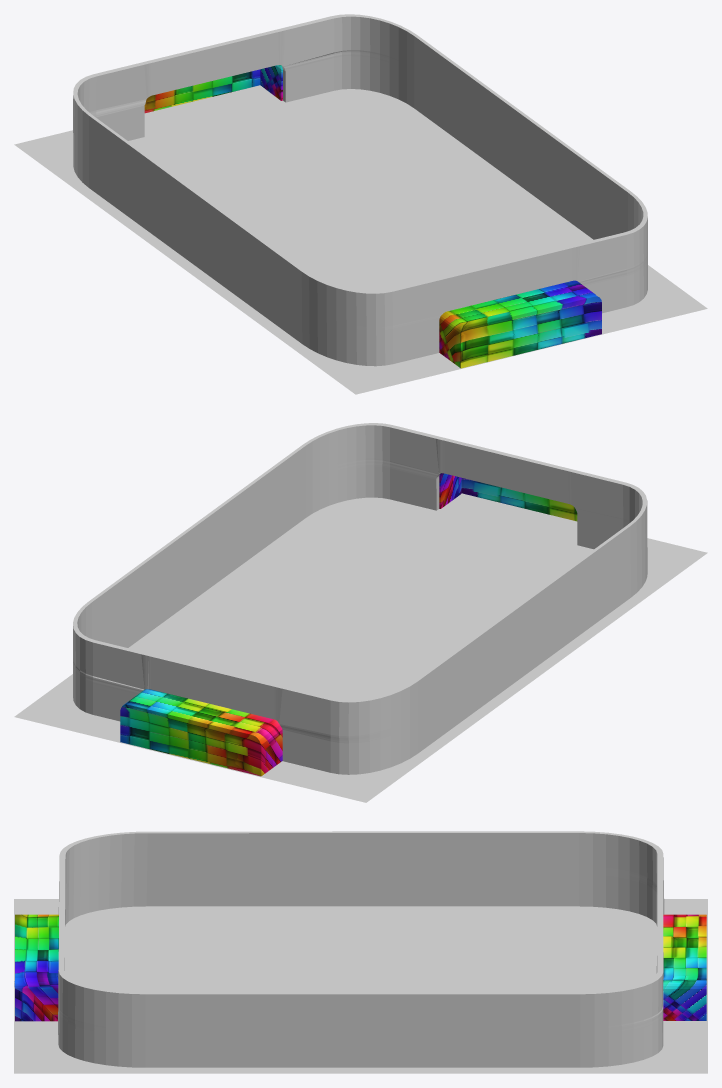
Rendered from finalGround5 (1).fbx.
3 renders of one model, top to bottom at view 1: azimuth 30°, elevation 25°; view 2: azimuth 150°, elevation 25°; view 3: azimuth 270°, elevation 25°, orthographic.
Visible parts, largest first — view 1: wall, Ground, Goal2, Goal1; view 2: wall, Ground, Goal1, Goal2; view 3: wall, Ground, Goal2, Goal1.
Part boxes in pixels (left/top/right/bottom): wall: left=73, top=14, right=647, bottom=366; Ground: left=14, top=85, right=707, bottom=394; Goal2: left=439, top=280, right=601, bottom=368; Goal1: left=144, top=65, right=282, bottom=113; wall: left=73, top=423, right=647, bottom=774; Ground: left=14, top=493, right=707, bottom=802; Goal1: left=120, top=689, right=282, bottom=776; Goal2: left=439, top=473, right=577, bottom=521; wall: left=58, top=831, right=664, bottom=1067; Ground: left=14, top=899, right=707, bottom=1073; Goal2: left=14, top=914, right=58, bottom=1021; Goal1: left=663, top=914, right=706, bottom=1020.
Size of the model in its own units: 1500 by 300 by 2520.
